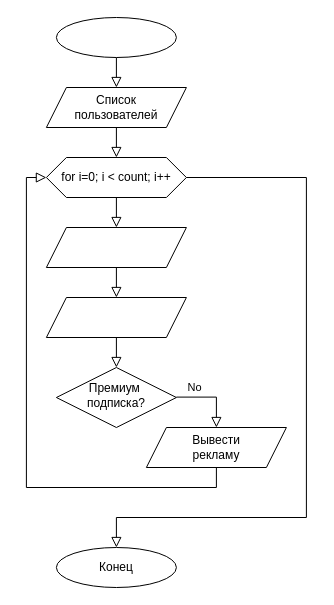
Some shapes in this 334 by 605 pixel diagram are drawn without their labels. Each missing label, with the box of its shape:
Вывести приветствие: (45, 296, 186, 338)
Начало: (55, 16, 176, 58)
Прочитать элемент списка: (45, 226, 186, 268)
